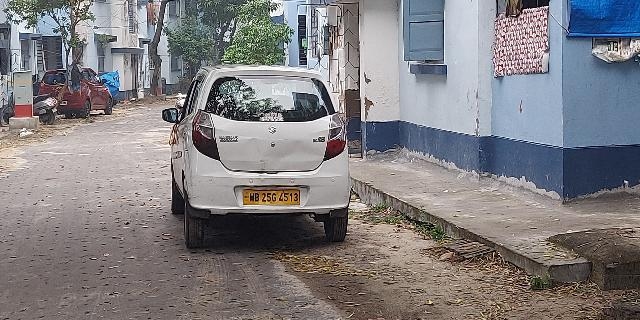Car: (159, 51, 365, 252), (42, 69, 118, 119)
